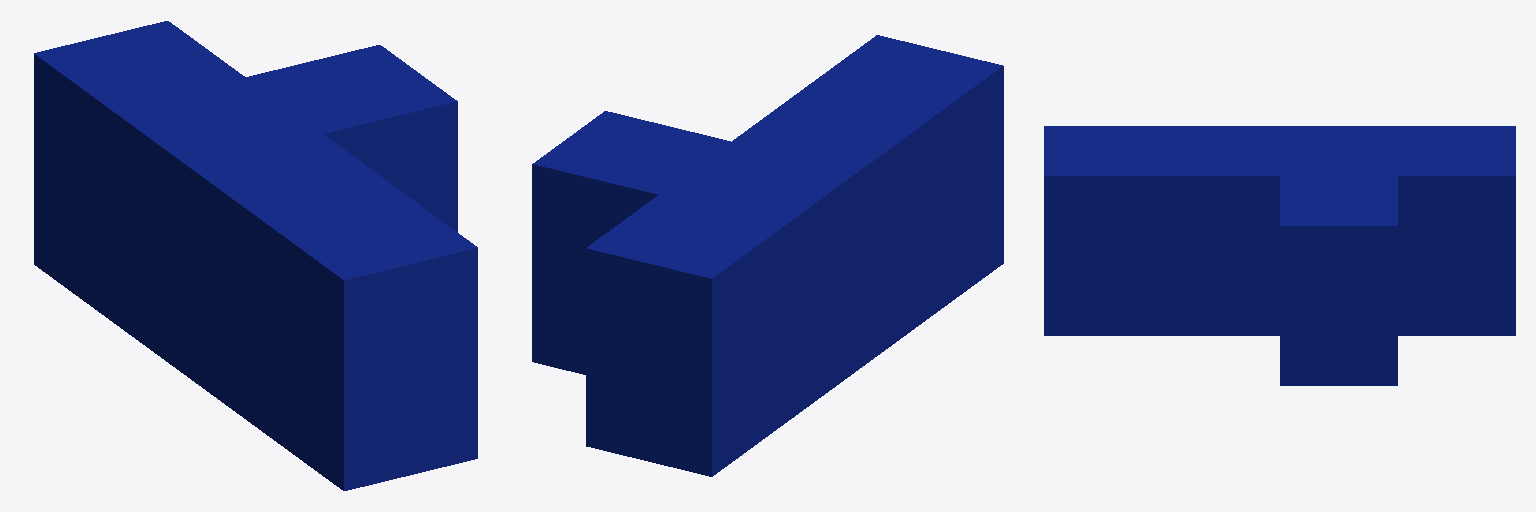
robot.urdf — block:
<robot name="block">
  <link name="block_base_link">

    <inertial>
      <origin rpy="0 0 0" xyz="0.014 -0.038 0.015"/>
      <mass value="0.05"/>
      <inertia ixx="3.146e-05" ixy="1.92e-06" ixz="0.0" iyy="1.034e-05" iyz="0.0" izz="3.28e-05"/>

    </inertial>
    <collision>
      
      <geometry>
        <mesh filename="12.STL" scale="1 1 1"/>
      </geometry>
    </collision>
    <visual>
 
      <geometry>
        <mesh filename="12.STL" scale="1 1 1"/>
      </geometry>
      <material name="tray_material">
        <color rgba="0.1 0.2 0.6 1"/>
      </material>
    </visual>
  </link>
</robot>

--- Facts derived from the render (not from the file) ---
Views: 3 orthographic renders of the robot side by side, from view 1: azimuth 30°, elevation 25°; view 2: azimuth 150°, elevation 25°; view 3: azimuth 270°, elevation 25°.
Model block with 1 links and 0 joints (none), rooted at block_base_link, posed all joints at 0.
Visible links, largest first — view 1: block_base_link; view 2: block_base_link; view 3: block_base_link.
Link boxes in pixels (x1=…): block_base_link: x1=34, y1=21, x2=477, y2=490; block_base_link: x1=532, y1=35, x2=1003, y2=476; block_base_link: x1=1044, y1=126, x2=1515, y2=385.
Size in the robot's own frame: 0.04 by 0.08 by 0.03 metres.
1 mesh visuals loaded from 1 distinct referenced files (1 binary STL).